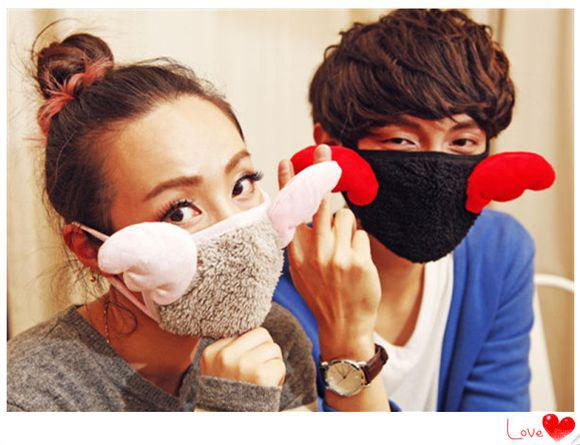OK: (103, 150, 284, 331), (355, 114, 496, 251)
